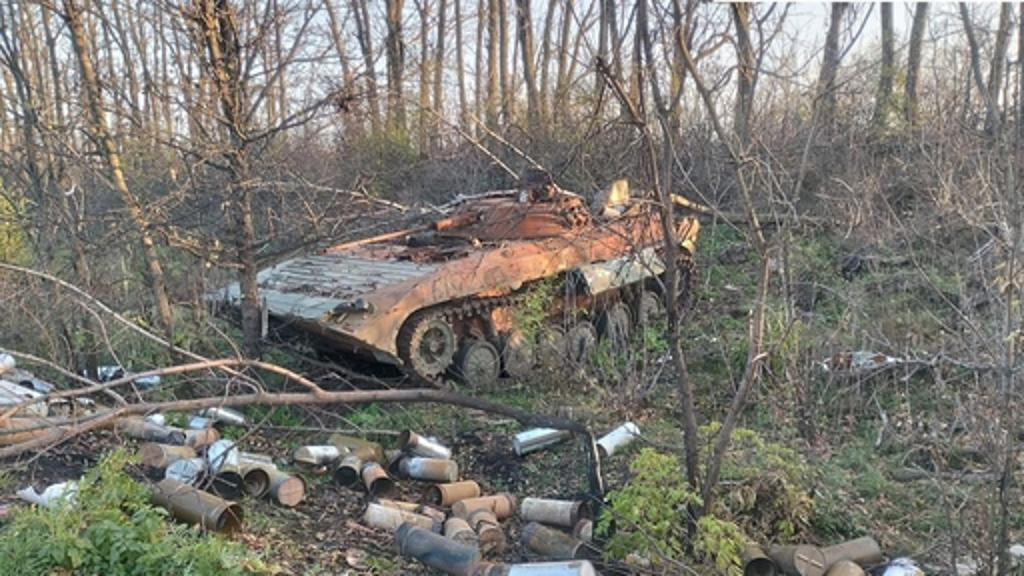APC-IFV: (192, 168, 708, 374)
